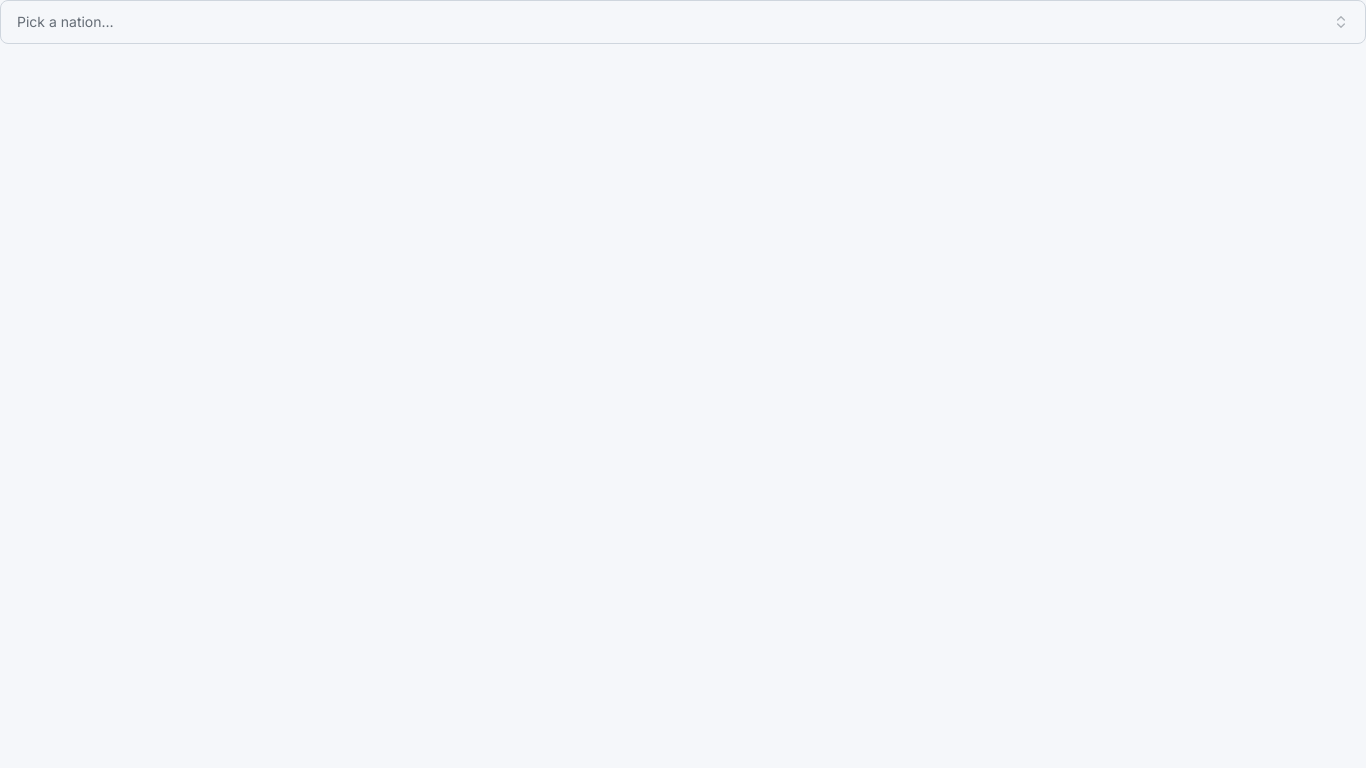
NationCombobox › renders the selected nation name + short code in the trigger when value is set
Later steps or results of the test are not shown.
Click the dropdown at [65, 22], box [0, 0, 1365, 44]
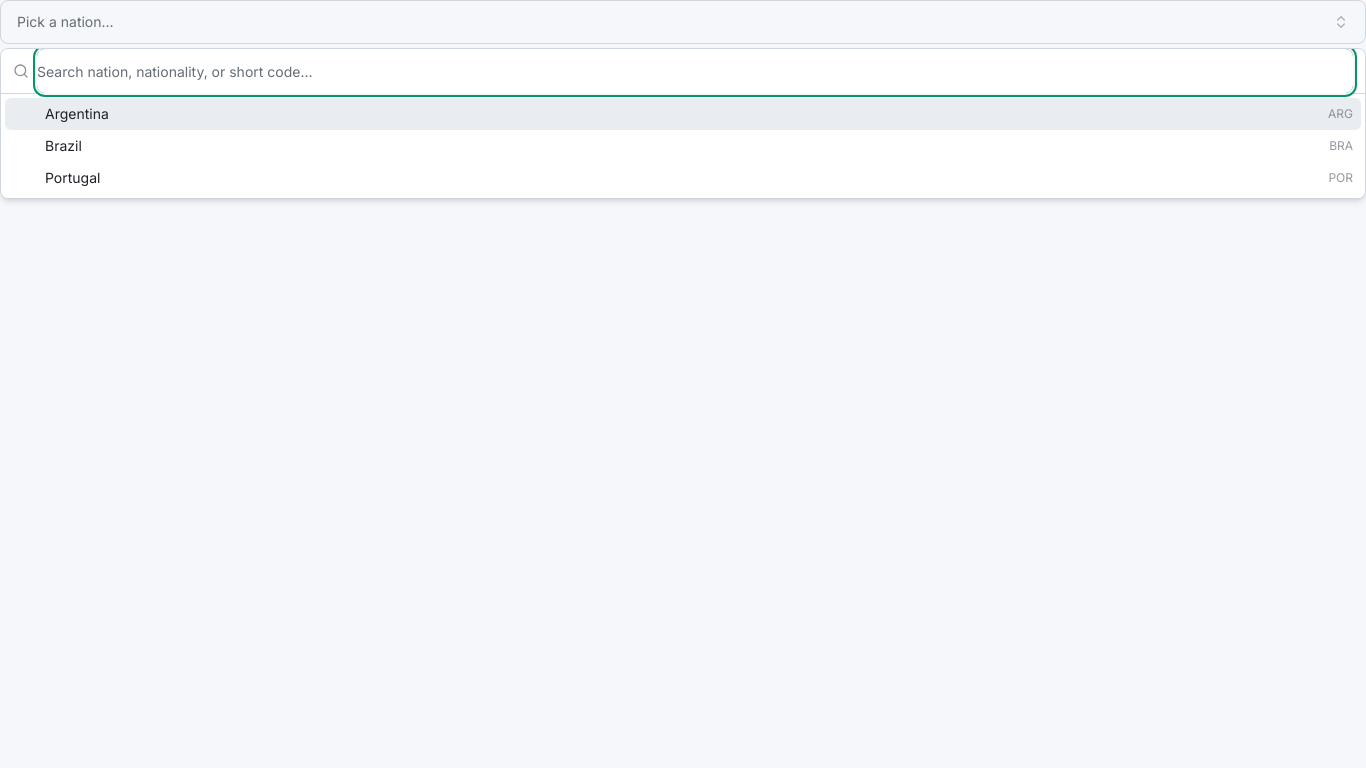
expect the text "Argentina" is shown: met, box [45, 105, 109, 122]
